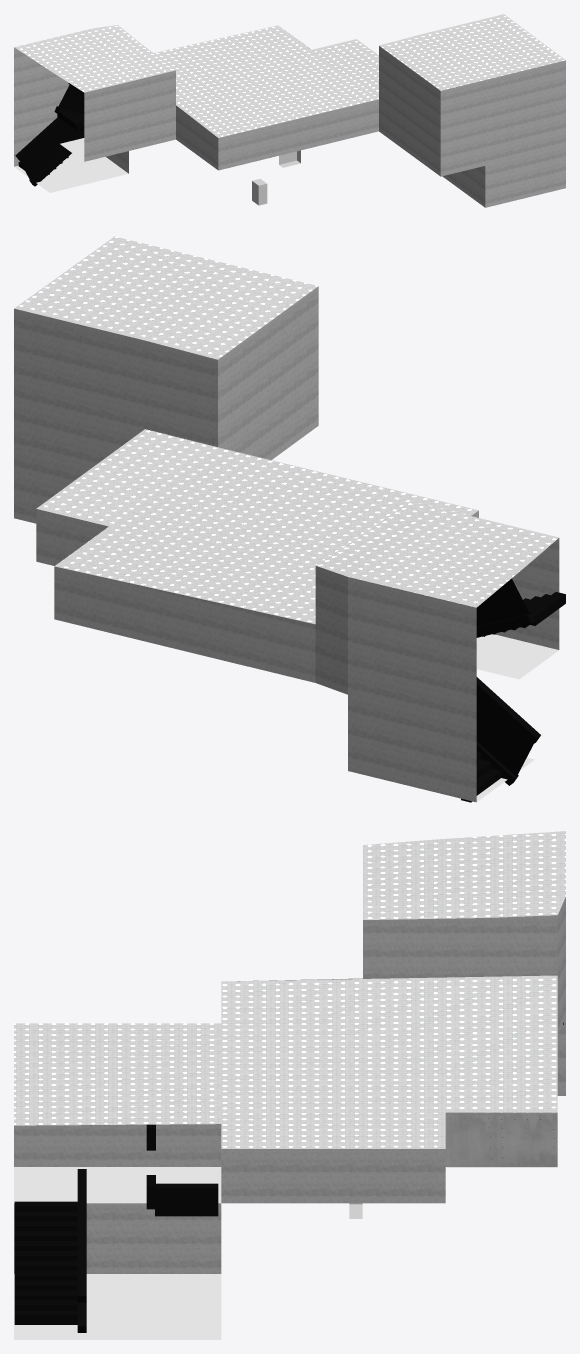
The model's file is floor 4.glb.
The picture shows the model from 3 angles, top to bottom: view 1: azimuth 30°, elevation 25°; view 2: azimuth 150°, elevation 25°; view 3: azimuth 270°, elevation 25°; orthographic projection. The views are drawn at different scales.
Parts seen in each view (by area): view 1: Plane, Cube.014, Cube.013, Cube.011, Cube.005, Plane.001; view 2: Plane, Cube.014, Cube.013, Cube.011; view 3: Plane, Cube.007, Cube.008, Cube.009.
Boxes of the visible parts, x1,y1,x2,y2 form: Plane: (14,14,565,207); Cube.014: (15,117,84,186); Cube.013: (54,83,84,114); Cube.011: (57,109,84,131); Cube.005: (252,178,267,205); Plane.001: (279,150,300,167); Plane: (14,236,559,802); Cube.014: (476,677,540,785); Cube.013: (476,578,535,637); Cube.011: (483,592,565,636); Plane: (14,831,565,1339); Cube.007: (14,1201,77,1324); Cube.008: (155,1183,218,1216); Cube.009: (77,1169,86,1332).
Size of the model in its own units: 30.7 by 9.64 by 20.96.
Materials: 12 (3 with a texture image).
